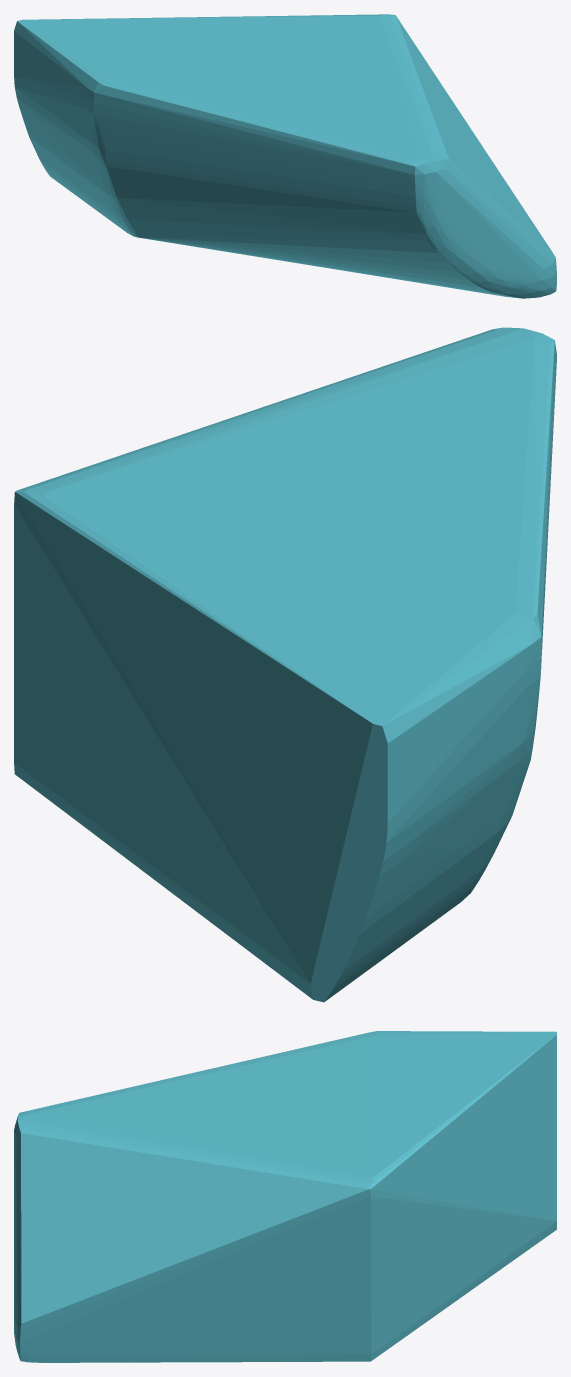
File: right-hip-pitch-0_part_2.obj
3 renders of one model, top to bottom at view 1: azimuth 30°, elevation 25°; view 2: azimuth 150°, elevation 25°; view 3: azimuth 270°, elevation 25°, orthographic. The views are drawn at different scales.
Bounding box in the file's own units: 0.0659 × 0.0353 × 0.0953.
